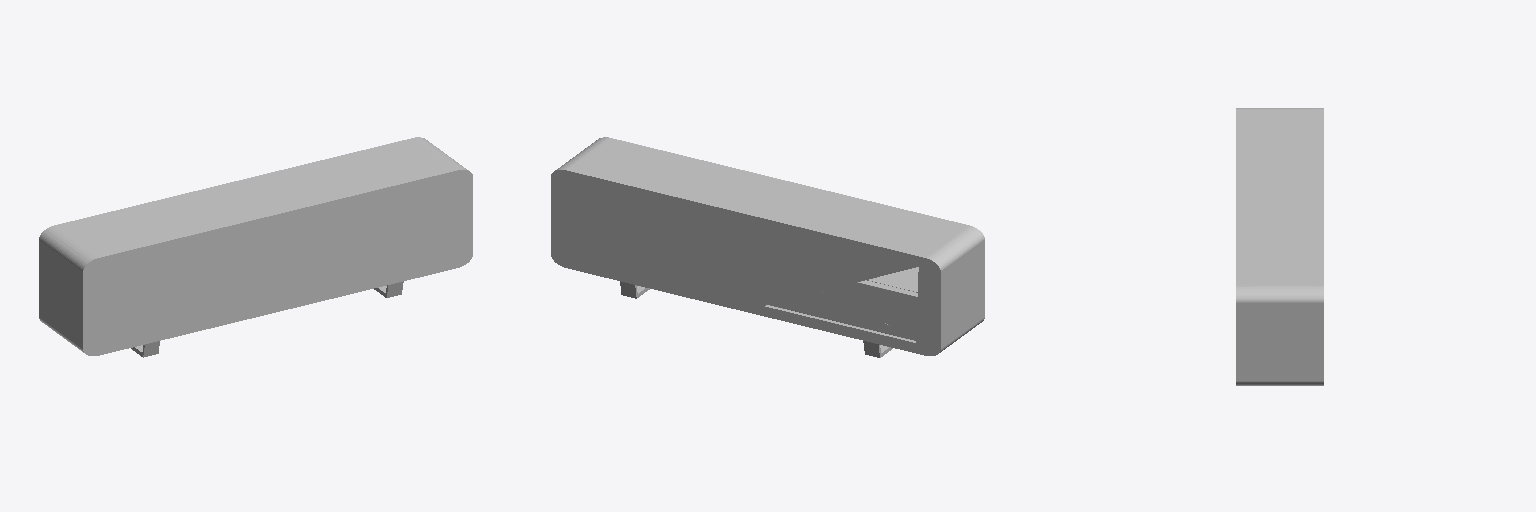
Rendered from TVSTAND.obj.
The picture shows the model from 3 angles: view 1: azimuth 30°, elevation 25°; view 2: azimuth 150°, elevation 25°; view 3: azimuth 270°, elevation 25°; orthographic projection.
Parts seen in each view (by area): view 1: TVSTAND_1.001, TVSTAND_1.002; view 2: TVSTAND_1.001, TVSTAND_1.004, TVSTAND_1.002; view 3: TVSTAND_1.001.
Boxes of the visible parts, box(x1,y1,x2,y2) form: TVSTAND_1.001: box(39, 137, 472, 355); TVSTAND_1.002: box(131, 281, 403, 357); TVSTAND_1.001: box(551, 137, 984, 355); TVSTAND_1.004: box(770, 280, 917, 340); TVSTAND_1.002: box(620, 281, 892, 357); TVSTAND_1.001: box(1236, 108, 1323, 385).
Size of the model in its own units: 9.88 by 2.82 by 1.95.